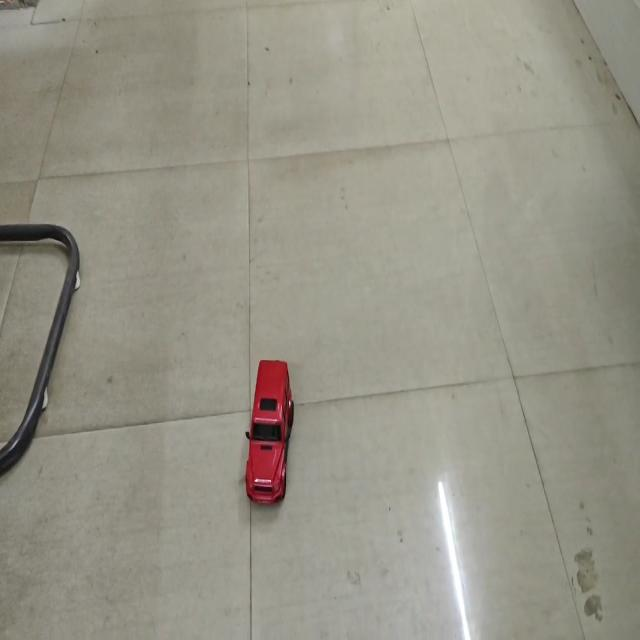light_vehicle: (242, 350, 292, 506)
